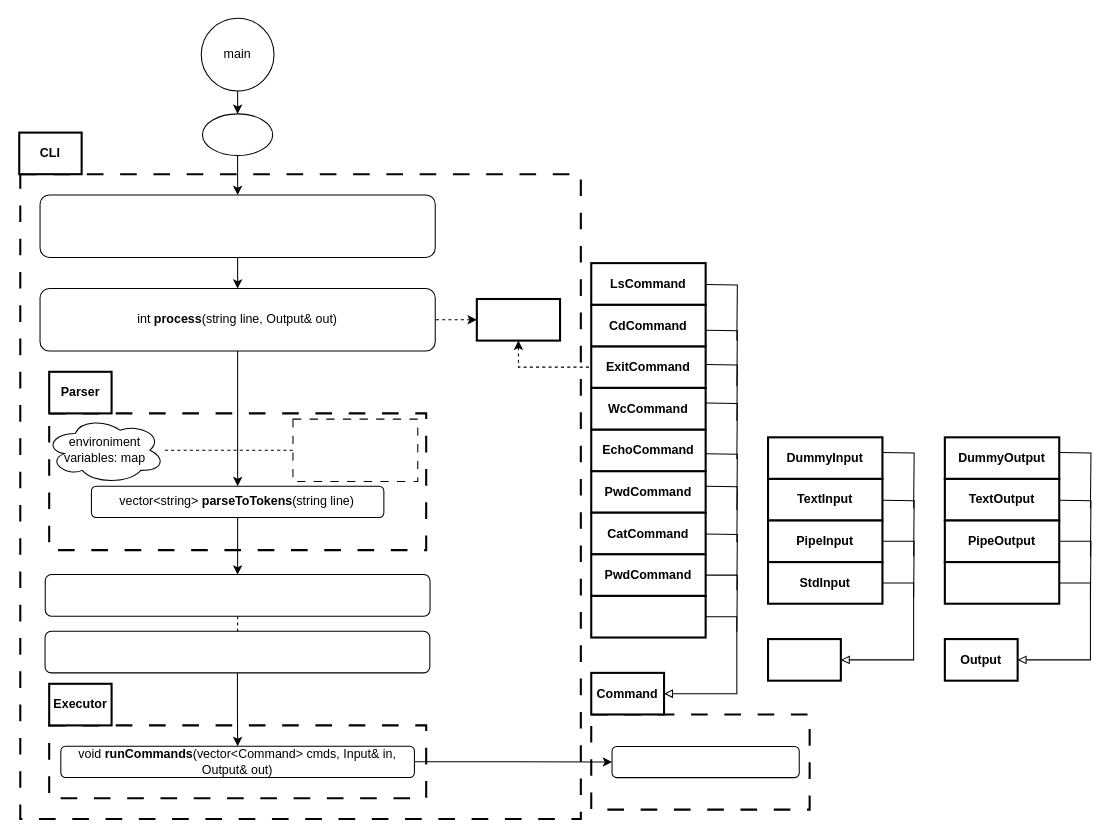
Some shapes in this 1117 by 838 pixel diagram are drawn without their labels. The shapes that lost their labels are listed below. From the top down, each one's centre as x and y in pixels, then its label:
At (x=237, y=134): "Raw Input".
At (x=237, y=225): "void runCli (Parser& parser, Input& in, Output& out)".
At (x=518, y=319): "GlobalState isExit: bool".
At (x=355, y=450): "Substituting + Tokenization".
At (x=237, y=595): "vector<Command> splitIntoCommands (vector<string> tokens)".
At (x=1001, y=582): "Std Output".
At (x=648, y=616): "ExternalCommand".
At (x=237, y=651): "Command createCommand (vector<string> tokens)".
At (x=803, y=659): "Input".
At (x=705, y=761): "void run (Input& in, Output& out)".
